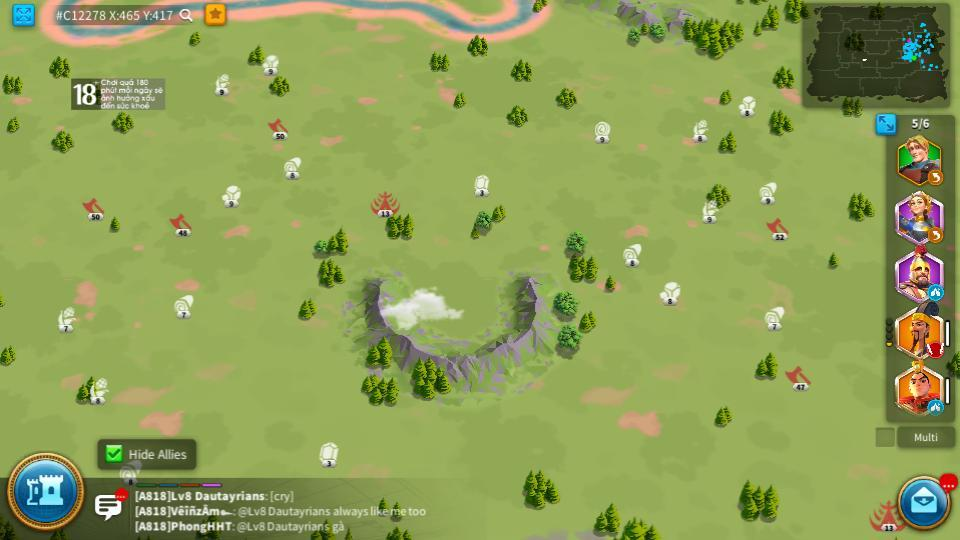gem-z-out: (317, 442, 341, 467)
march_attacking: (929, 347, 942, 358)
march_idle: (927, 401, 945, 415), (929, 284, 942, 297)
march_returning: (927, 170, 944, 185), (928, 229, 942, 242)
